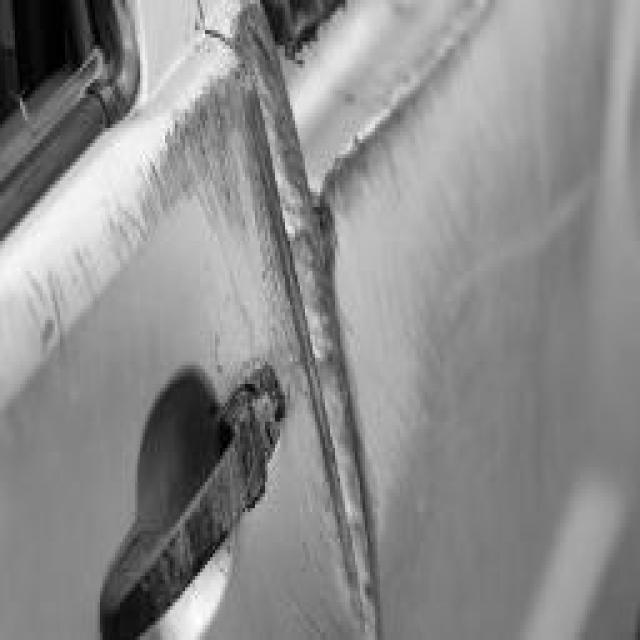Door: (0, 8, 385, 640)
